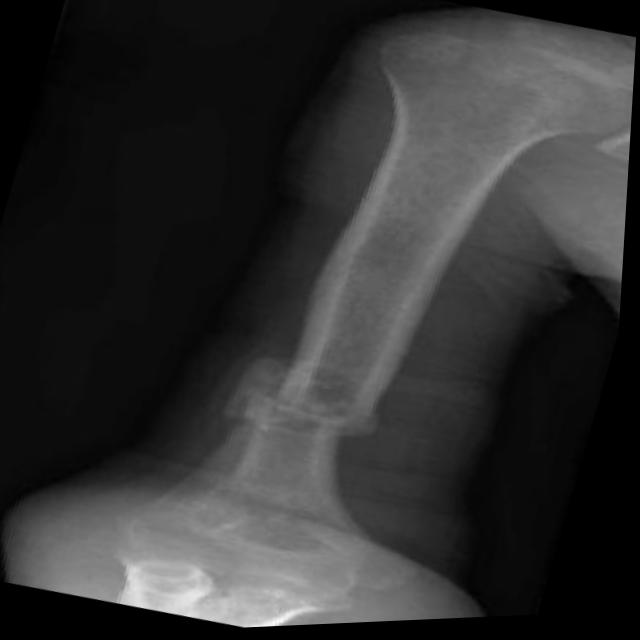fracture: (210, 352, 418, 463)
